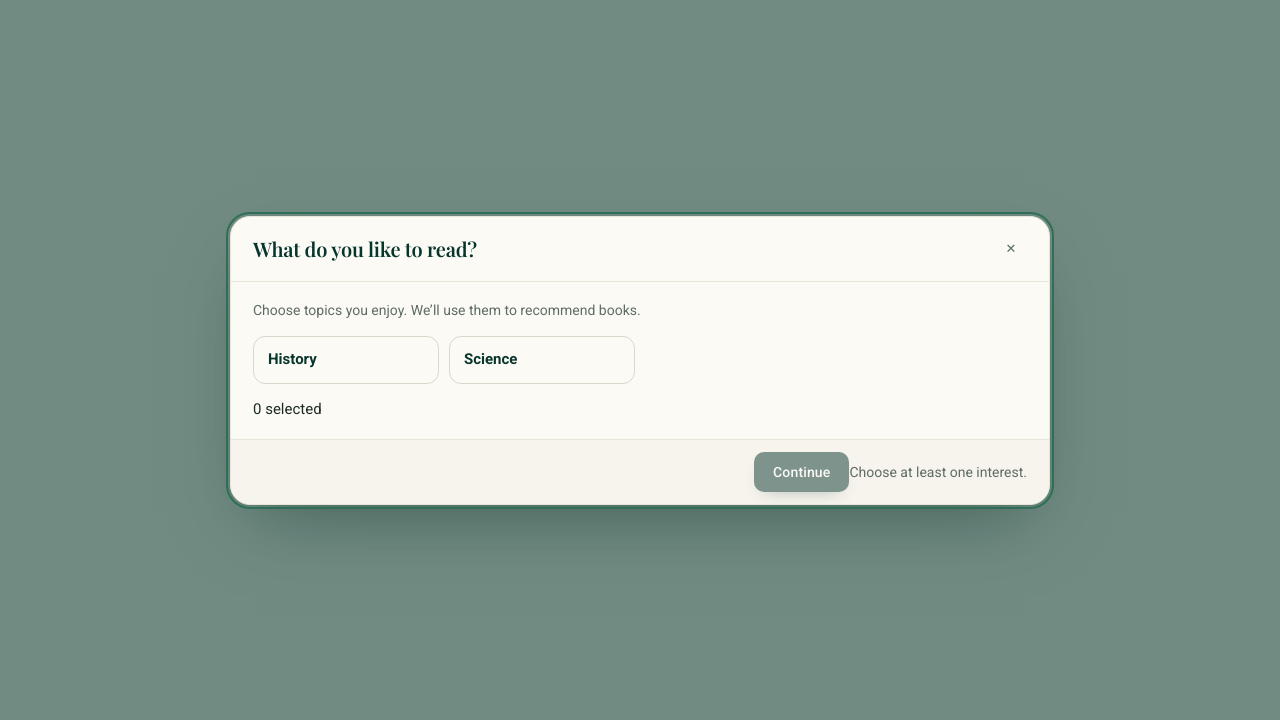
Scenario: InterestsPicker › keeps the modal open and shows an inline error when saving fails
This screenshot has width=1280, height=720.
Click the button "History": (346, 359) [253,335,439,383]
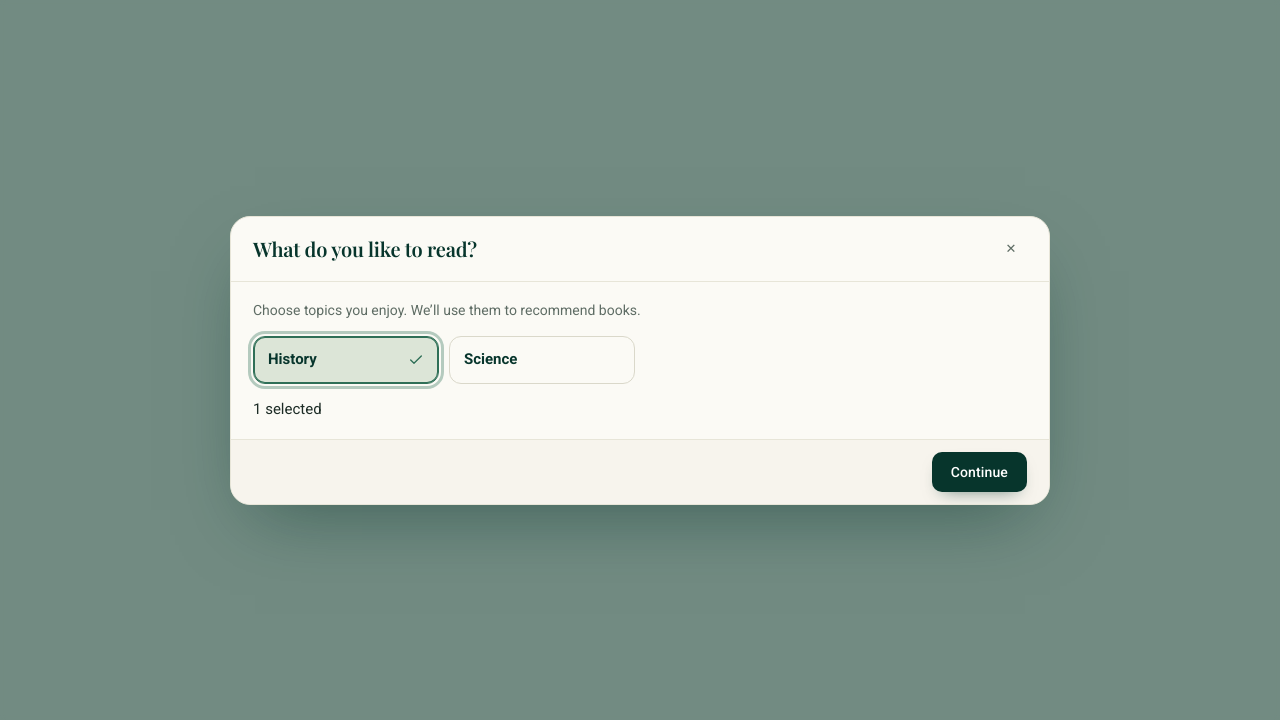
Click the button "Continue": (979, 472) [932,452,1027,492]
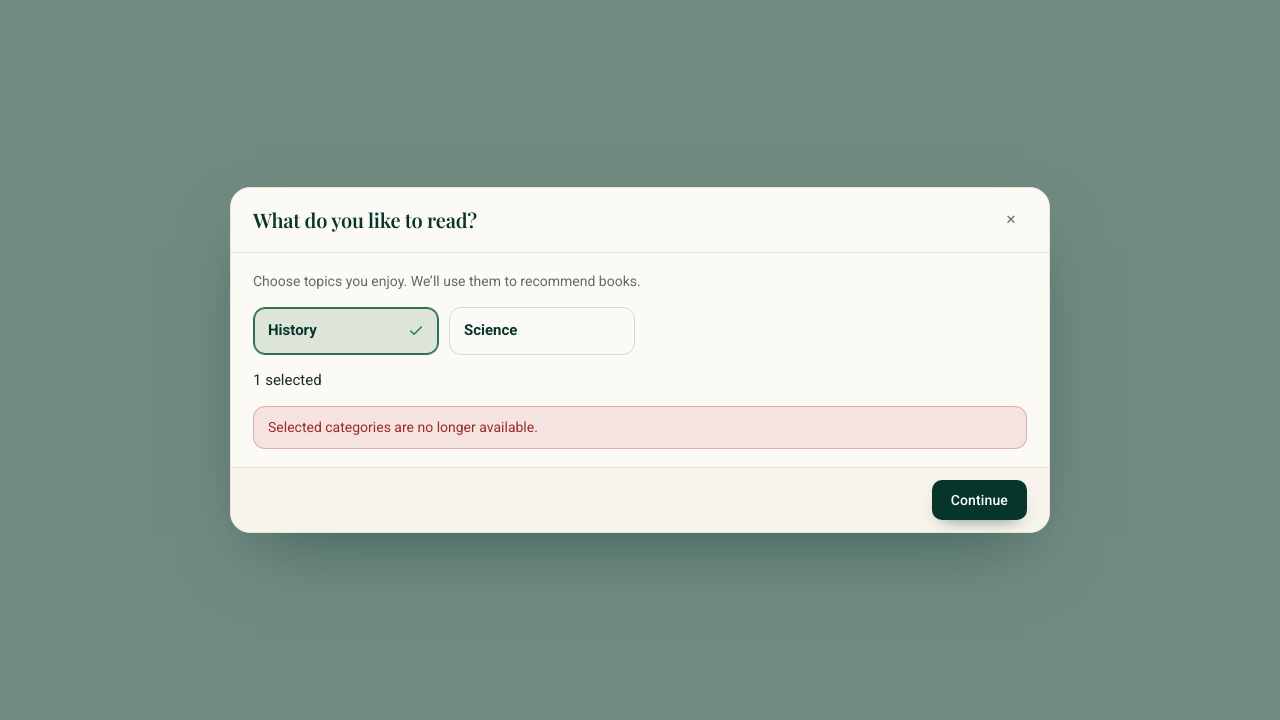
Check: the dialog "What do you like to read?" is shown, box [230,187,1050,533]
Check: the message reads "Selected categories are no longer available.", box [268,419,538,435]
